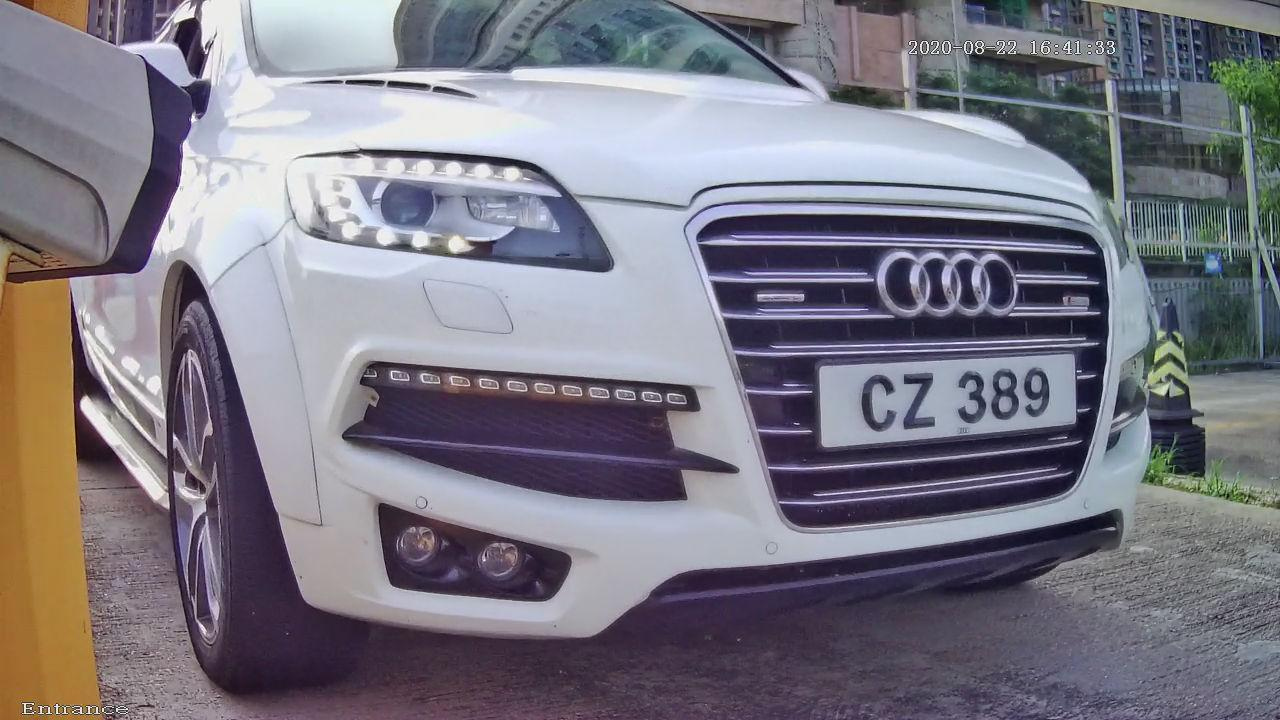License Plate: (801, 332, 1092, 457)
